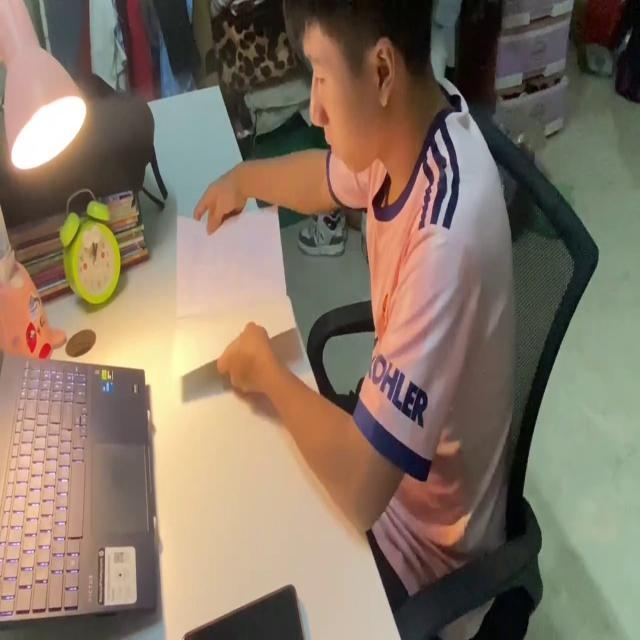book: (171, 202, 303, 382)
laptop: (1, 344, 164, 628)
phone: (183, 579, 308, 640)
student: (188, 2, 519, 596)
